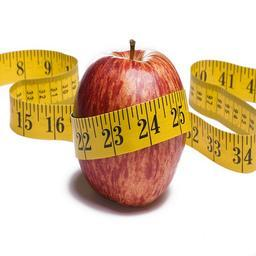apple: (70, 47, 190, 211)
